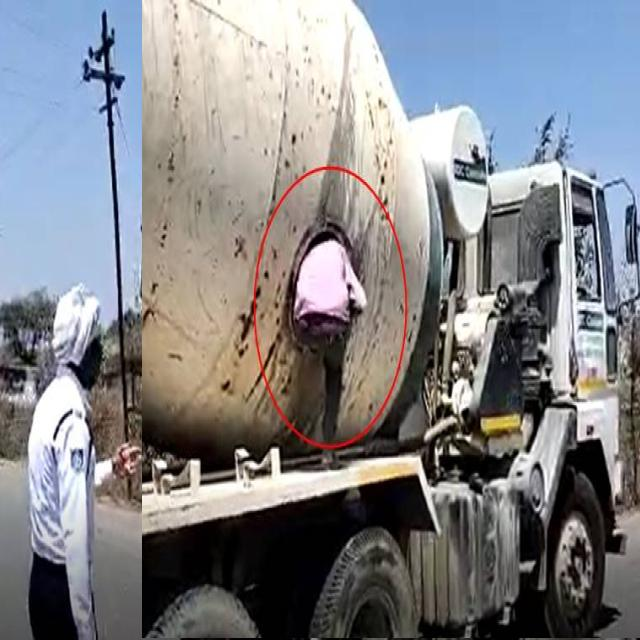truck: (142, 0, 640, 638)
